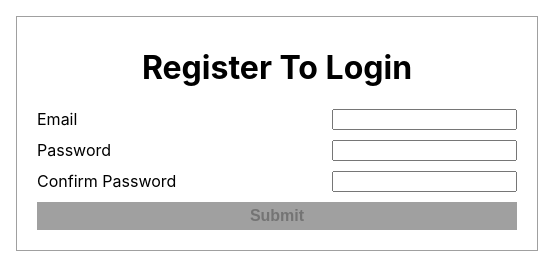
it: Register page › button should be enabled when all inputs are filled
Type "stackjs@gmail.com" into the field labelled "Email" at [424, 119], box [332,109,517,130]
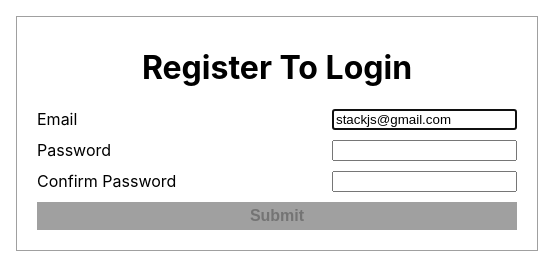
Type "123456" into the password field labelled "Password" at [424, 150], box [332,140,517,161]
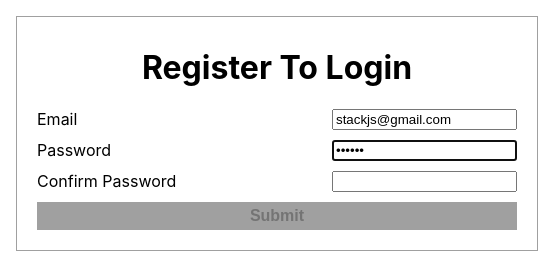
Type "123456" into the password field labelled "Confirm Password" at [424, 181], box [332,171,517,192]
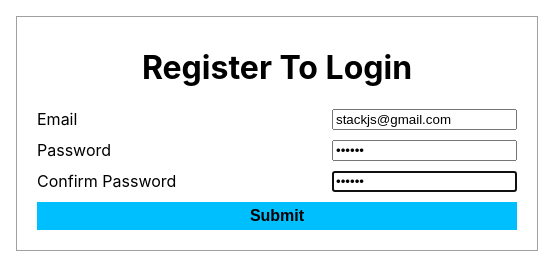
Now the button "Submit" is enabled, box [37,202,517,230]
